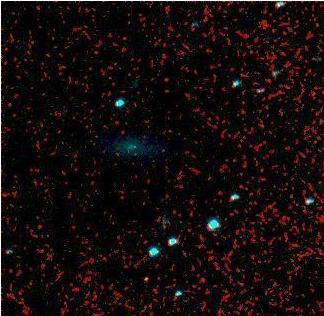star: (131, 265, 161, 295)
